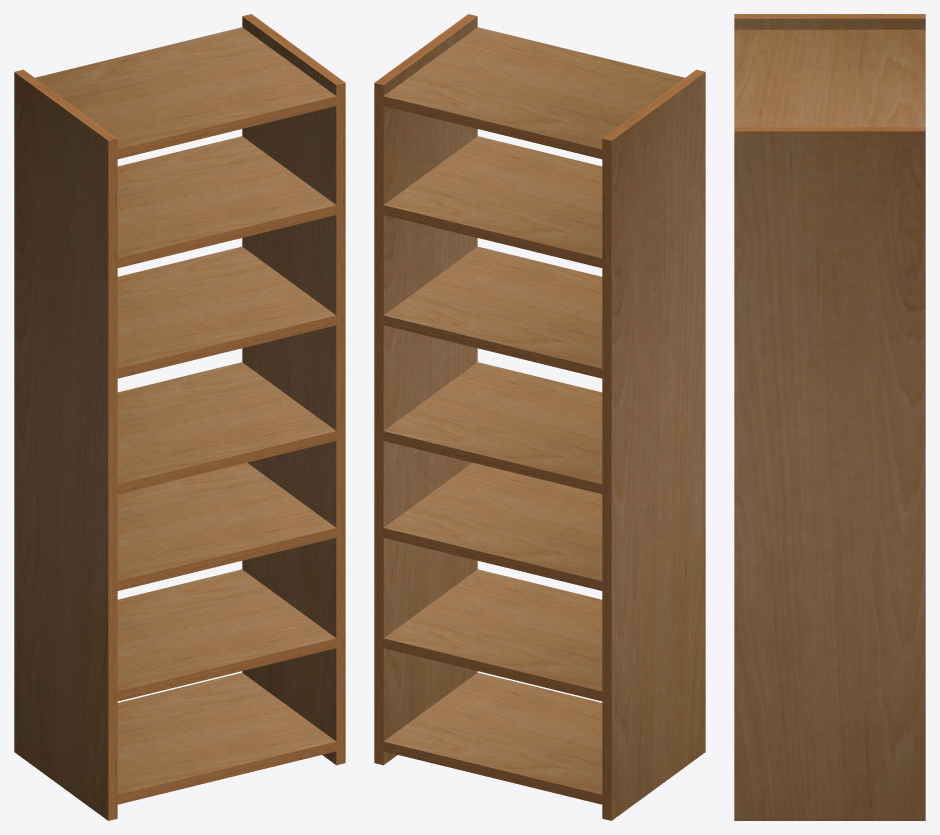
Rendered from self6.FBX.
3 renders of one model, left to right at view 1: azimuth 30°, elevation 25°; view 2: azimuth 150°, elevation 25°; view 3: azimuth 270°, elevation 25°, orthographic.
Visible parts, largest first — view 1: self6; view 2: self6; view 3: self6.
Part boxes in pixels (x1,y1,x2,y2): self6: (14,14,345,820); self6: (374,14,705,820); self6: (734,14,925,820).
Bounding box in the file's own units: 5.07 × 13.89 × 3.49.
